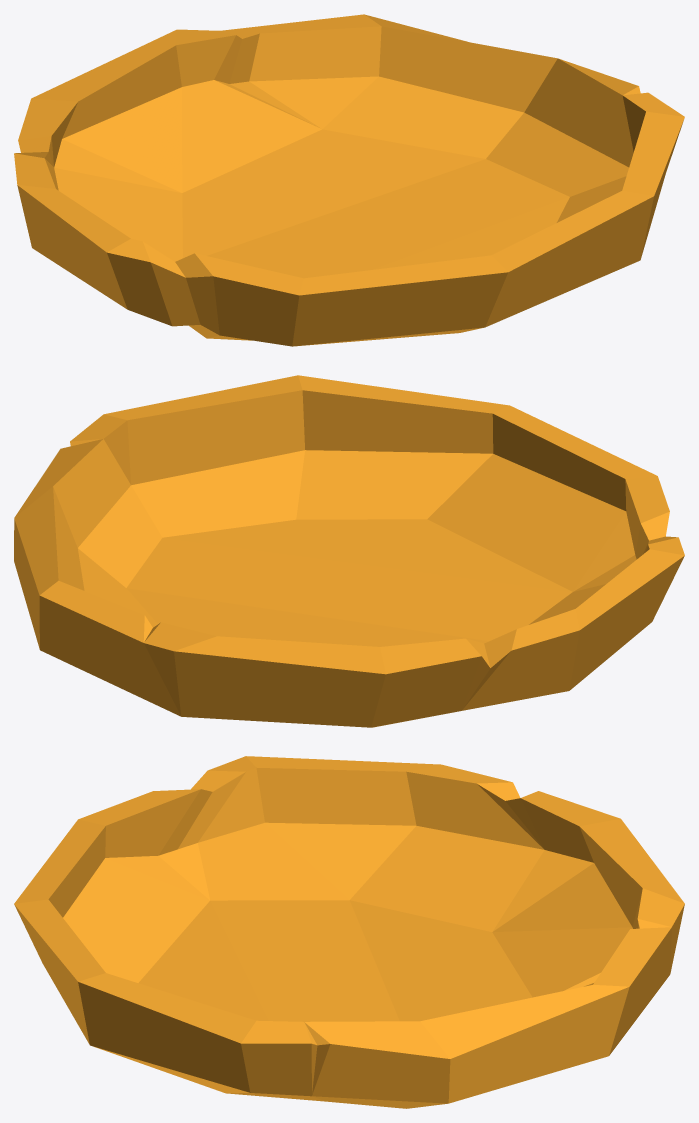
Rendered from SM_Plate_Wood_Basic.fbx.
The picture shows the model from 3 angles, top to bottom: view 1: azimuth 30°, elevation 25°; view 2: azimuth 150°, elevation 25°; view 3: azimuth 270°, elevation 25°; orthographic projection.
Visible parts, largest first — view 1: plate-wood-basic; view 2: plate-wood-basic; view 3: plate-wood-basic.
Boxes of the visible parts, x1,y1,x2,y2 form: plate-wood-basic: (14, 14, 684, 346); plate-wood-basic: (14, 375, 684, 727); plate-wood-basic: (14, 756, 684, 1108).
Bounding box in the file's own units: 0.2507 × 0.0443 × 0.25.
